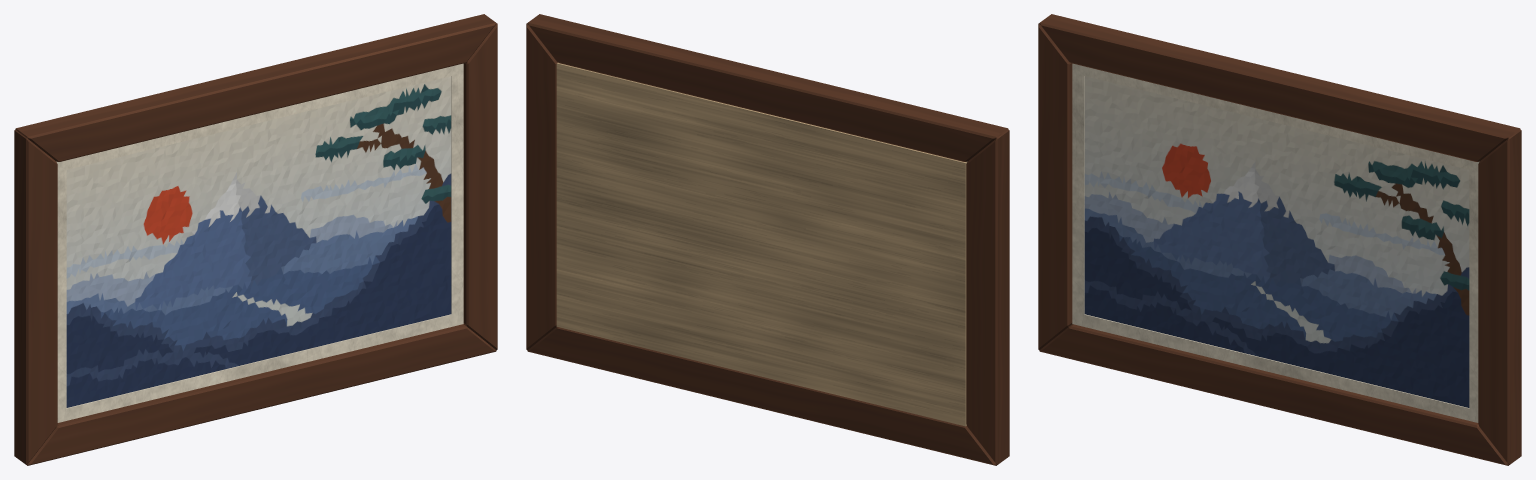
File: 11_Cuadro_Fuji.fbx
3 renders of one model, left to right at view 1: azimuth 30°, elevation 25°; view 2: azimuth 150°, elevation 25°; view 3: azimuth 330°, elevation 25°, orthographic.
Parts seen in each view (by area): view 1: SM_11_Cuadro_Fuji; view 2: SM_11_Cuadro_Fuji; view 3: SM_11_Cuadro_Fuji.
Part boxes in pixels (<box>): SM_11_Cuadro_Fuji: <box>14,14,497,465</box>; SM_11_Cuadro_Fuji: <box>526,14,1009,465</box>; SM_11_Cuadro_Fuji: <box>1038,14,1521,465</box>.
Size of the model in its own units: 0.6 by 0.4 by 0.03.
